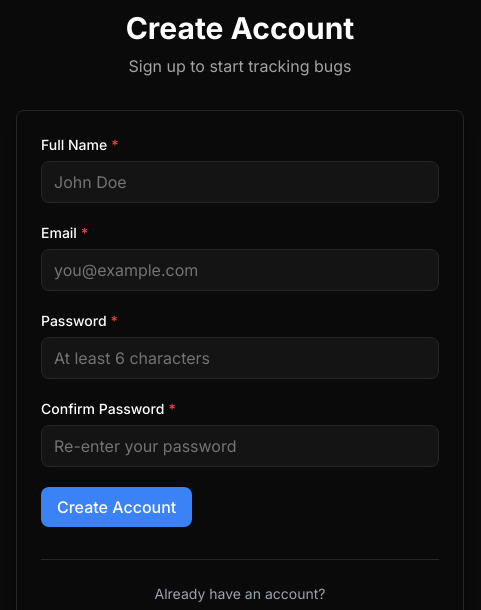
Scenario: Authentication Flow › Signup › should show error for password mismatch
Type "Test User" into the field named "name".
click(240, 182); type("Test User")  # box [41, 161, 439, 203]
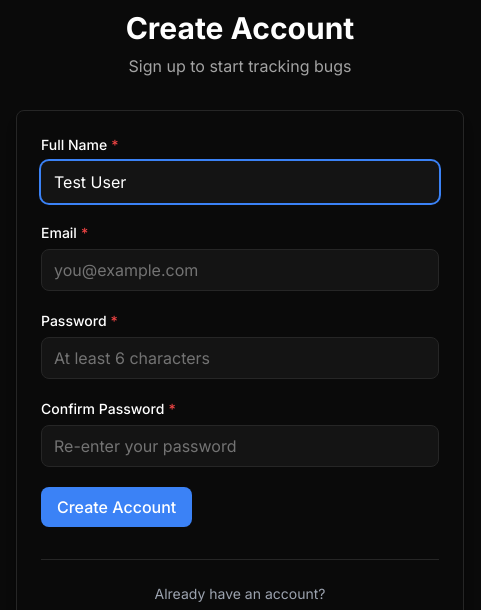
Type "test@example.com" into the field named "email".
click(240, 270); type("test@example.com")  # box [41, 249, 439, 291]
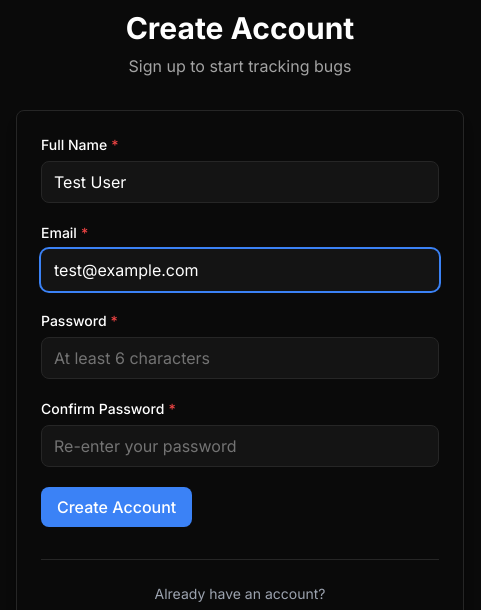
Type "password123" into the password field named "password".
click(240, 358); type("password123")  # box [41, 337, 439, 379]
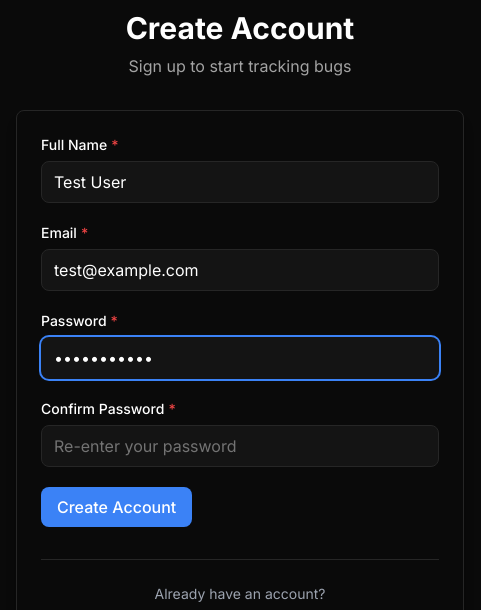
Type "password456" into the password field named "confirmPassword".
click(240, 446); type("password456")  # box [41, 425, 439, 467]
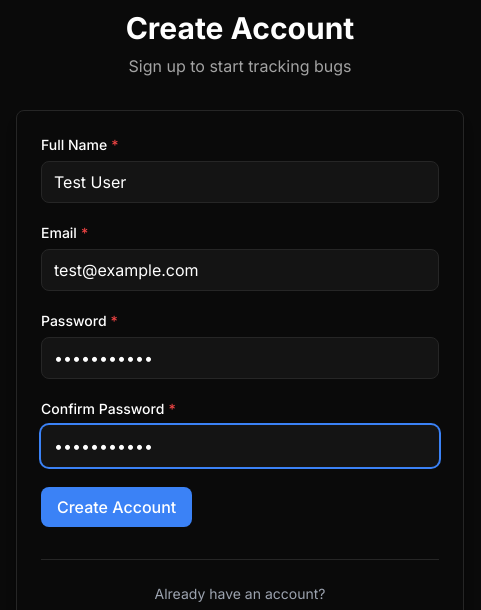
Click the submit button.
click(117, 507)  # box [41, 487, 192, 527]
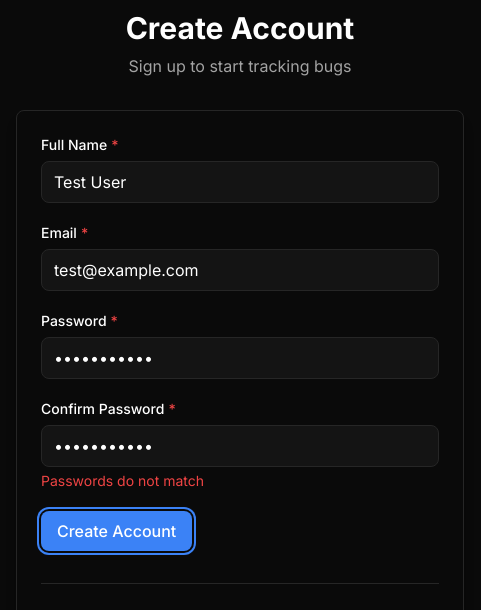
Expected: the text "Passwords do not match" is shown, [41, 472, 204, 489]
